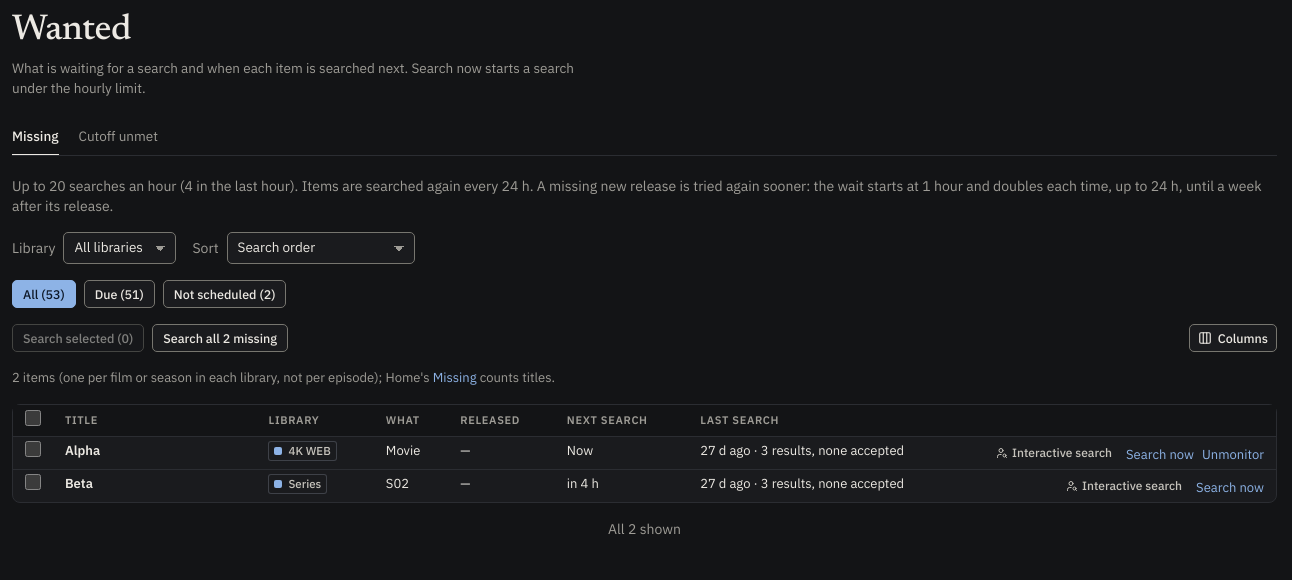
searches one row, and the selected rows of the page
Expected: the button "Search selected (0)" is disabled, [12,324,144,352]
What coordinates should you click on to do the following:
click the button "Search now" in the row of "Beta"
I would click on:
 (1230, 488)
Its box is [1196,478,1264,498].
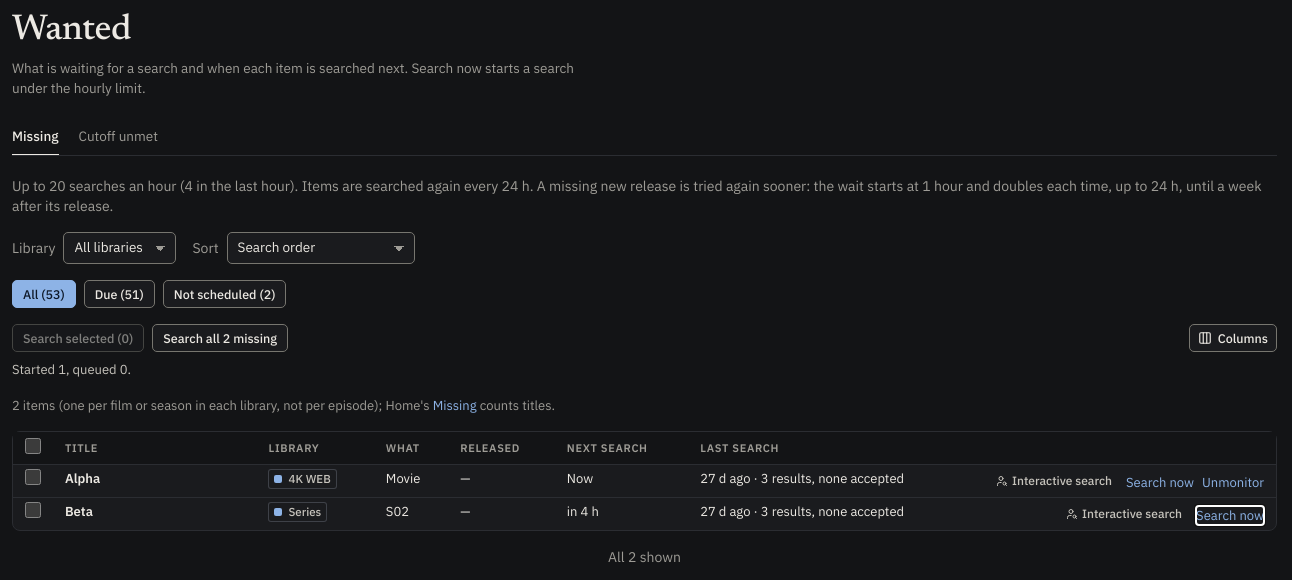
Now the message with test id "search-now-result" reads "Started 1, queued 0.", box [12,361,131,378]
What coordinates should you click on to do the following:
click the checkbox named "Select all on this page"
I would click on:
 (33, 446)
Its box is [25,438,41,454].
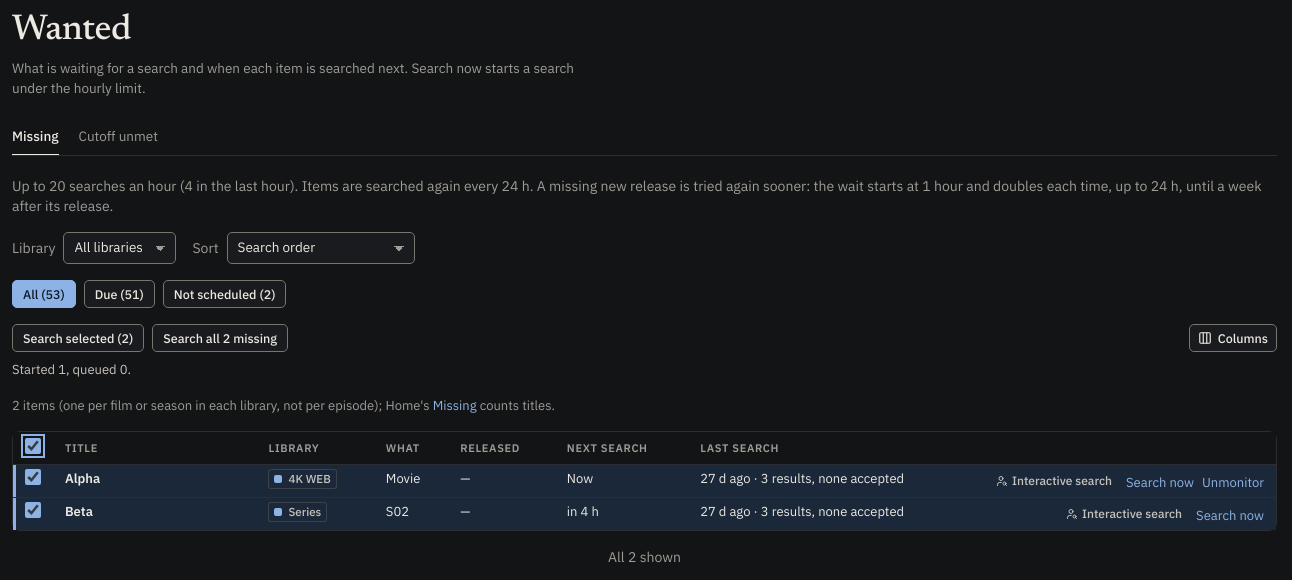
What coordinates should you click on to do the following:
click the button "Search selected (2)"
I would click on:
 (78, 338)
Its box is [12,324,144,352].
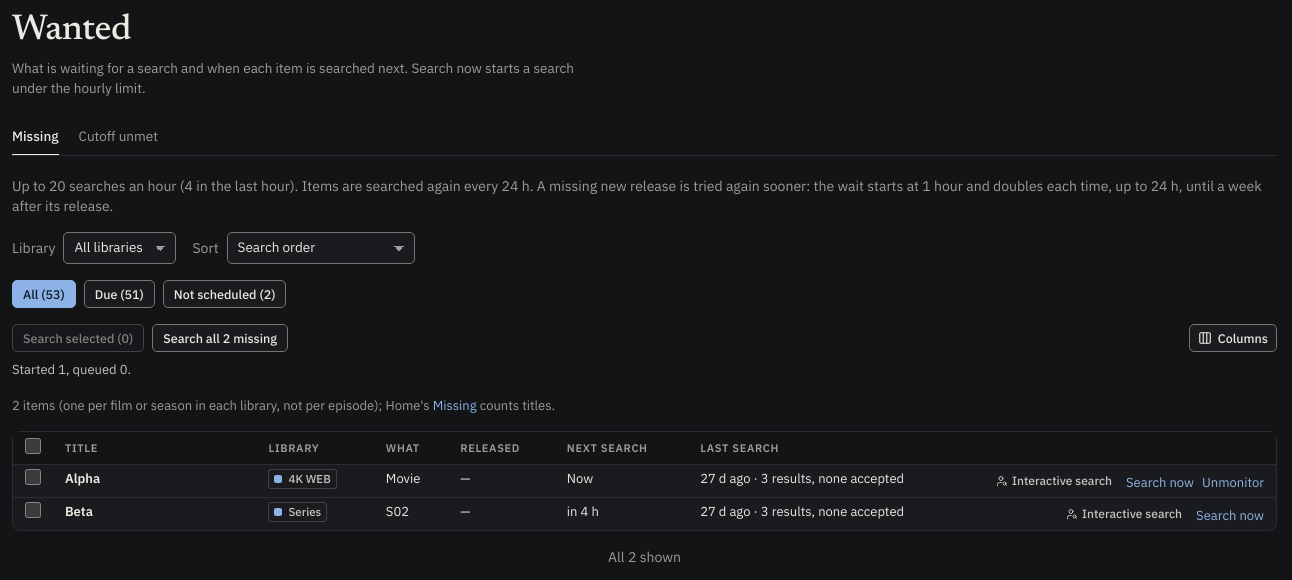
Now the button "Search selected (0)" is shown, box [12,324,144,352]
